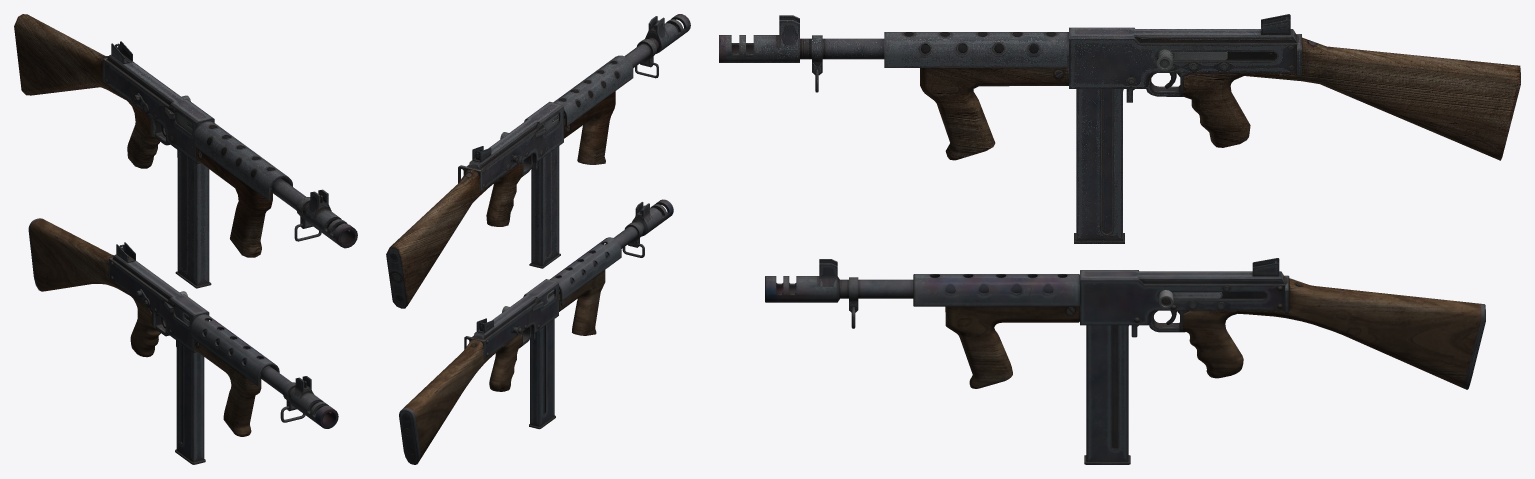
Rendered from smg.glb.
3 views of the same model, side by side, from view 1: azimuth 30°, elevation 25°; view 2: azimuth 150°, elevation 25°; view 3: azimuth 270°, elevation 25° (orthographic). The views are drawn at different scales.
Parts seen in each view (by area): view 1: base, base_2, mag, mag_2; view 2: base, base_2, mag, mag_2; view 3: base, base_2, mag, mag_2, bolt.
Part boxes in pixels (x1,y1,x2,y2): base: [14, 14, 357, 257]; base_2: [28, 218, 338, 436]; mag: [175, 150, 211, 288]; mag_2: [175, 341, 205, 464]; base: [386, 14, 690, 308]; base_2: [399, 199, 673, 464]; mag: [529, 146, 560, 268]; mag_2: [529, 319, 555, 429]; base: [719, 14, 1520, 160]; base_2: [765, 258, 1485, 389]; mag: [1074, 89, 1124, 243]; mag_2: [1084, 325, 1130, 464]; bolt: [1156, 49, 1227, 71].
Bounding box in the file's own units: 0.0705 × 0.7046 × 1.15.
2 materials, 2 textured.
